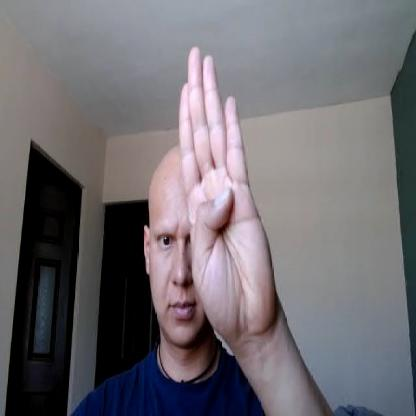B: (180, 48, 276, 338)
